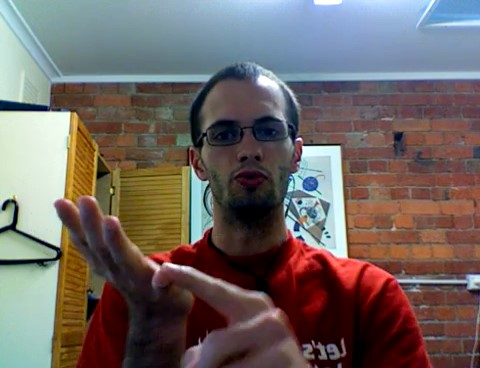U: (36, 185, 330, 368)
